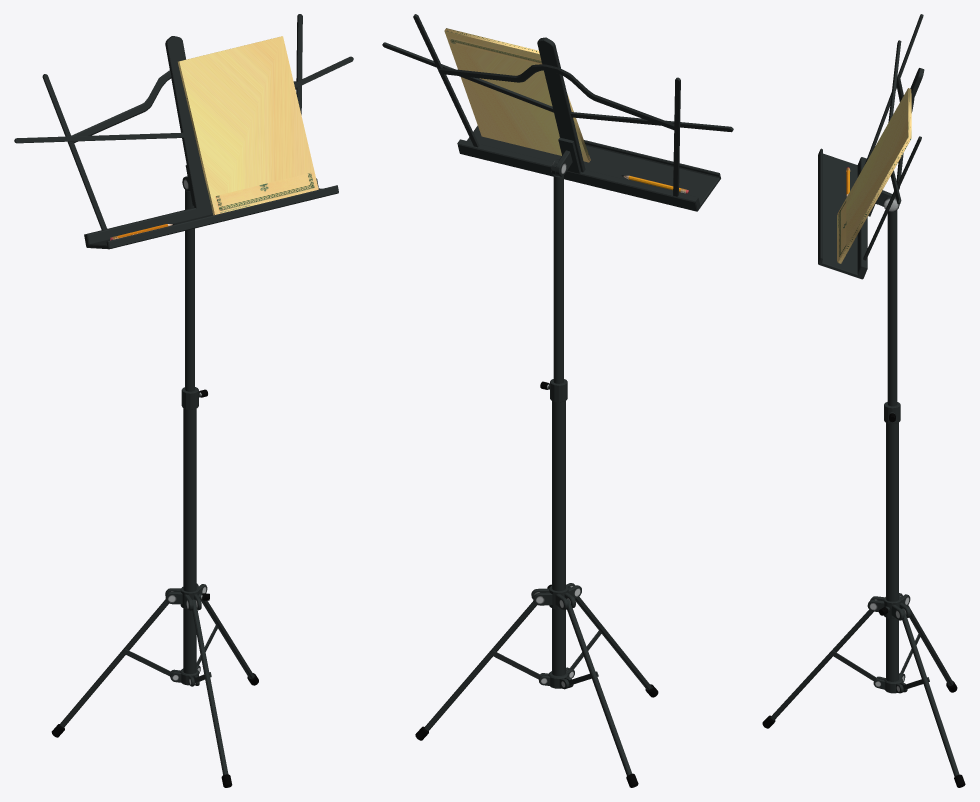
The model's file is music_stand.glb.
3 renders of one model, left to right at view 1: azimuth 30°, elevation 25°; view 2: azimuth 150°, elevation 25°; view 3: azimuth 270°, elevation 25°, orthographic. The views are drawn at different scales.
Parts seen in each view (by area): view 1: defaultMaterial.009, Curve, VABACHSIXSU1SCH-large; view 2: defaultMaterial.009, Curve; view 3: defaultMaterial.009, Curve, VABACHSIXSU1SCH-large.
Part boxes in pixels (<box>): defaultMaterial.009: <box>14,14,353,787</box>; Curve: <box>178,36,318,215</box>; VABACHSIXSU1SCH-large: <box>215,172,317,213</box>; defaultMaterial.009: <box>382,14,733,787</box>; Curve: <box>444,28,590,162</box>; defaultMaterial.009: <box>762,14,965,787</box>; Curve: <box>837,88,911,263</box>; VABACHSIXSU1SCH-large: <box>837,200,846,261</box>.
Size of the model in its own units: 1.03 by 2 by 0.5479.
3 materials, 3 textured.
